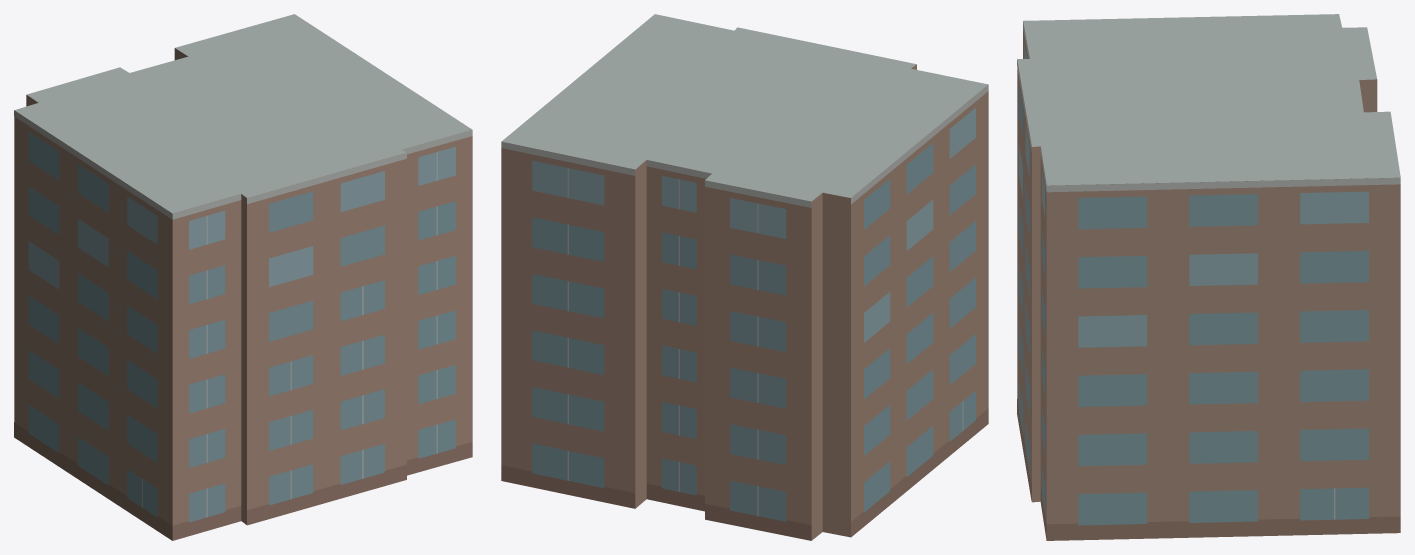
File: survey-upis-32973816.glb
3 views of the same model, side by side, from view 1: azimuth 30°, elevation 25°; view 2: azimuth 150°, elevation 25°; view 3: azimuth 270°, elevation 25° (orthographic). The views are drawn at different scales.
Parts seen in each view (by area): view 1: survey-upis-32973816.tmp; view 2: survey-upis-32973816.tmp; view 3: survey-upis-32973816.tmp.
Part boxes in pixels (x1,y1,x2,y2): survey-upis-32973816.tmp: [14, 14, 472, 540]; survey-upis-32973816.tmp: [501, 14, 988, 540]; survey-upis-32973816.tmp: [1017, 14, 1400, 540].
Size of the model in its own units: 13.31 by 12.85 by 12.59.
